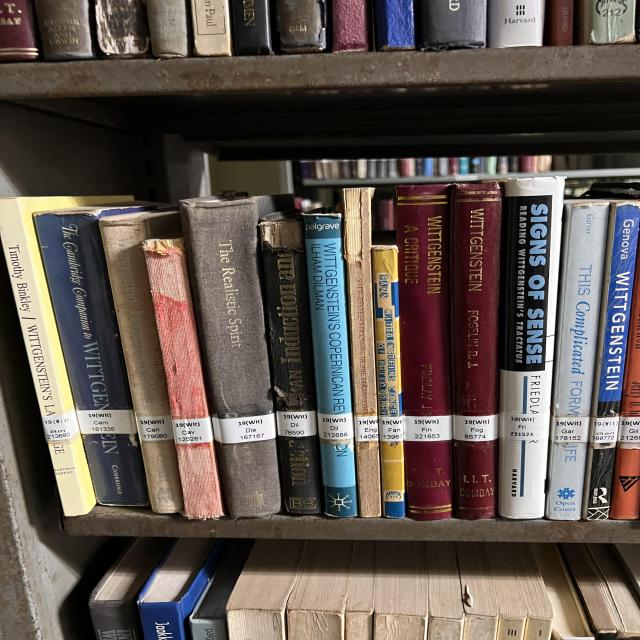Book: (0, 195, 133, 516), (33, 202, 158, 505), (180, 195, 293, 519), (98, 210, 183, 514), (143, 238, 223, 519), (500, 185, 562, 519), (545, 200, 608, 520), (397, 184, 453, 520), (260, 214, 322, 515), (582, 200, 640, 521), (450, 182, 502, 519), (303, 214, 357, 518), (343, 188, 382, 518), (372, 245, 405, 518), (610, 240, 640, 520)
Label: (212, 414, 277, 444), (77, 409, 137, 434), (500, 411, 550, 441), (403, 415, 452, 441), (42, 409, 80, 442), (453, 415, 498, 441), (172, 418, 213, 444), (317, 412, 353, 440), (277, 411, 317, 436), (552, 416, 590, 442), (137, 415, 173, 441), (590, 416, 618, 444), (353, 416, 378, 441), (378, 416, 403, 441), (618, 416, 640, 442)
